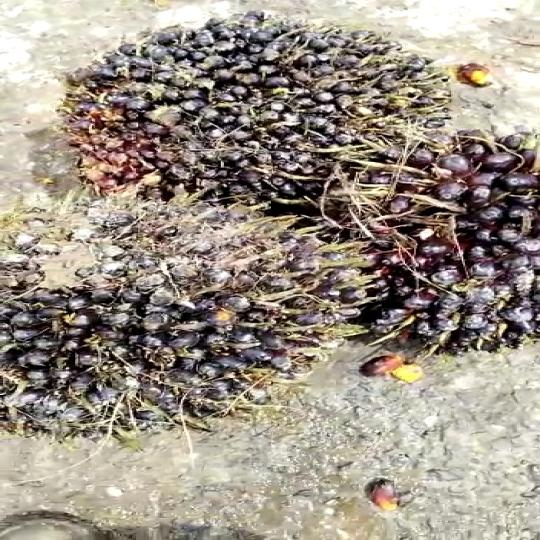mentah: (0, 180, 372, 431), (59, 6, 450, 190), (317, 121, 540, 363)
